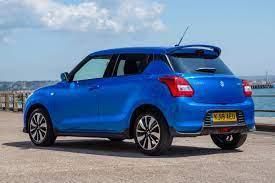Hatchback: (22, 39, 256, 155)
